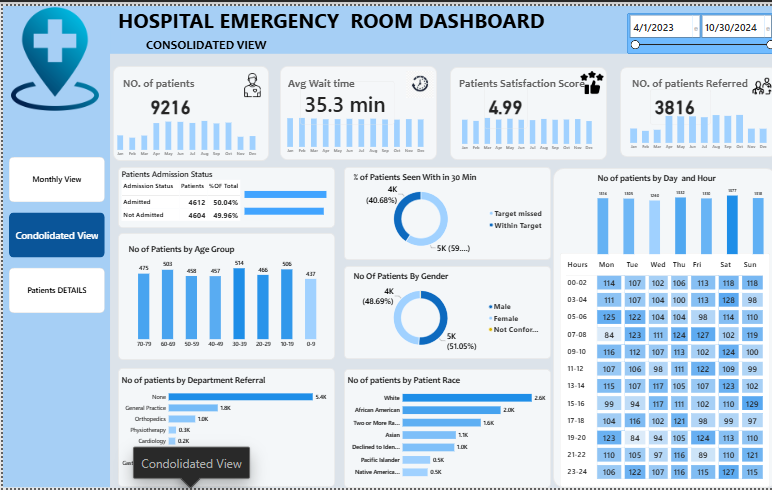

This screenshot's page, from the dashboard's own definition file:
{"tool":"powerbi","page":{"name":"Condolidated View","canvas":[2300,1400],"ordinal":1},"visuals":[{"type":"shape","box":[0,0,310.9,1397.5],"z":0},{"type":"shape","box":[310.9,0,1989.1,138.8],"z":1000},{"type":"textbox","box":[334,0,1243.2,104.6],"z":2000},{"type":"textbox","box":[415.4,69.7,366,69.7],"z":3000},{"type":"slicer","fields":{"Values":["Date Table.Date"]},"box":[1812.4,20.3,435.7,119.1],"z":4000},{"type":"shape","box":[804.6,174.3,456,273],"z":7000},{"type":"textbox","box":[827.8,206.2,275.9,46.5],"z":8000},{"type":"columnChart","fields":{"Category":["Date Table.Month Name"],"Y":["Avg(Hospital ER_Data.Patient Waittime)"]},"box":[795.9,302.1,456,148.1],"z":9000},{"type":"shape","box":[1298.3,177.2,456,270.1],"z":10000},{"type":"textbox","box":[1324.5,206.2,400.8,46.5],"z":11000},{"type":"columnChart","fields":{"Category":["Date Table.Month Name"],"Y":["MASURES.Satisfaction Score"]},"box":[1304.1,302.1,435.7,139.4],"z":12000},{"type":"shape","box":[1792.1,177.2,456,261.4],"z":13000},{"type":"cardVisual","fields":{"Data":["MASURES.No of Patients referred"]},"box":[1879.3,241.1,177.2,104.6],"z":14000},{"type":"textbox","box":[1827,206.2,357.3,46.5],"z":15000},{"type":"columnChart","fields":{"Category":["Date Table.Month Name"],"Y":["MASURES.No of Patients referred"]},"box":[1792.1,293.4,456,145.2],"z":16000},{"type":"shape","box":[319.5,174.3,453.1,275.9],"z":17000},{"type":"shape","box":[334,467.6,630.3,177.2],"z":18000},{"type":"cardVisual","fields":{"Data":["MASURES.No of patients"]},"box":[415.4,229.5,159.8,127.8],"z":19000},{"type":"textbox","box":[348.4,205.7,276.4,46.1],"z":20000},{"type":"columnChart","fields":{"Category":["Date Table.Month Name"],"Y":["MASURES.No of patients"]},"box":[302.1,310.8,461.8,148.1],"z":21000},{"type":"cardVisual","fields":{"Data":["MASURES.Avg Wait time"]},"box":[862.7,217.8,275.9,127.8],"z":22000},{"type":"cardVisual","fields":{"Data":["MASURES.Satisfaction Score"]},"box":[1397.1,229.5,127.8,127.8],"z":23000},{"type":"pivotTable","title":"Patients Admission Status","fields":{"Rows":["Hospital ER_Data.Admission Status"],"Values":["MASURES.No of patients1","MASURES.No of patients"]},"box":[328.2,458.9,453.1,200.4],"z":24000},{"type":"barChart","fields":{"Category":["Hospital ER_Data.Admission Status"],"Y":["MASURES.No of Patients referred"]},"box":[685.5,490.9,270.1,159.8],"z":25000},{"type":"shape","box":[334,659.3,630.3,368.9],"z":26000},{"type":"clusteredColumnChart","title":"No of Patients by Age Group","fields":{"Category":["Hospital ER_Data.Age Group"],"Y":["MASURES.No of Patients referred"]},"box":[348.5,676.8,607.1,336.9],"z":27000},{"type":"shape","box":[334,1051.5,630.3,345.6],"z":28000},{"type":"clusteredBarChart","fields":{"Category":["Hospital ER_Data.Department Referral"],"Y":["MASURES.No of patients"]},"box":[328.2,1057.3,627.4,342.7],"z":29000},{"type":"shape","box":[990.5,467.6,601.2,270.1],"z":30000},{"type":"donutChart","title":"% of Patients Seen With in 30 Min","fields":{"Category":["Hospital ER_Data.Wait time Status"],"Y":["MASURES.No of patients"]},"box":[1002.1,467.6,589.6,270.1],"z":31000},{"type":"shape","box":[991.7,756.5,601.2,270.1],"z":32000},{"type":"donutChart","title":"No Of Patients By Gender ","fields":{"Category":["Hospital ER_Data.Patient Gender"],"Y":["MASURES.No of patients"]},"box":[1003.4,756.5,589.6,270.1],"z":33000},{"type":"shape","box":[990.5,1054.4,601.2,345.6],"z":34000},{"type":"clusteredBarChart","fields":{"Category":["Hospital ER_Data.Patient Race"],"Y":["MASURES.No of patients"]},"box":[984.6,1057.3,607.1,339.8],"z":35000},{"type":"shape","box":[1597.5,470.5,650.6,929.5],"z":36000},{"type":"pivotTable","fields":{"Columns":["Date Table.Day Name"],"Rows":["Hospital ER_Data.Waittime Interval"],"Values":["MASURES.No of patients"]},"box":[1617.8,717.4,610,679.7],"z":37000},{"type":"columnChart","title":"No of patients by Day  and Hour","fields":{"Category":["Date Table.Day Name"],"Y":["MASURES.No of patients"]},"box":[1710.8,470.5,517,267.2],"z":38000},{"type":"image","box":[685.5,194.6,78.4,69.7],"z":39000},{"type":"image","box":[1170.5,188.8,81.3,78.4],"z":40000},{"type":"image","box":[1664.3,188.8,92.9,66.8],"z":41000},{"type":"image","box":[2161,197.5,87.1,69.7],"z":42000},{"type":"image","box":[0,2.9,302.1,302.1],"z":43000},{"type":"pageNavigator","box":[17.4,438.6,278.8,453.1],"z":43001}]}

Visuals, with their boxes on the page's 2300x1400 design canvas (x1, y1, x2, y2). These are canvas units, not pixel positions in the 772x490 screenshot, which may show the page scaled, cropped or inside an application window:
shape: <bbox>0, 0, 311, 1398</bbox>
shape: <bbox>311, 0, 2300, 139</bbox>
textbox: <bbox>334, 0, 1577, 105</bbox>
textbox: <bbox>415, 70, 781, 139</bbox>
slicer - Date Table.Date: <bbox>1812, 20, 2248, 139</bbox>
shape: <bbox>805, 174, 1261, 447</bbox>
textbox: <bbox>828, 206, 1104, 253</bbox>
columnChart - Date Table.Month Name x Avg(Hospital ER_Data.Patient Waittime): <bbox>796, 302, 1252, 450</bbox>
shape: <bbox>1298, 177, 1754, 447</bbox>
textbox: <bbox>1324, 206, 1725, 253</bbox>
columnChart - Date Table.Month Name x MASURES.Satisfaction Score: <bbox>1304, 302, 1740, 442</bbox>
shape: <bbox>1792, 177, 2248, 439</bbox>
cardVisual - MASURES.No of Patients referred: <bbox>1879, 241, 2056, 346</bbox>
textbox: <bbox>1827, 206, 2184, 253</bbox>
columnChart - Date Table.Month Name x MASURES.No of Patients referred: <bbox>1792, 293, 2248, 439</bbox>
shape: <bbox>320, 174, 773, 450</bbox>
shape: <bbox>334, 468, 964, 645</bbox>
cardVisual - MASURES.No of patients: <bbox>415, 230, 575, 357</bbox>
textbox: <bbox>348, 206, 625, 252</bbox>
columnChart - Date Table.Month Name x MASURES.No of patients: <bbox>302, 311, 764, 459</bbox>
cardVisual - MASURES.Avg Wait time: <bbox>863, 218, 1139, 346</bbox>
cardVisual - MASURES.Satisfaction Score: <bbox>1397, 230, 1525, 357</bbox>
"Patients Admission Status" pivotTable: <bbox>328, 459, 781, 659</bbox>
barChart - Hospital ER_Data.Admission Status x MASURES.No of Patients referred: <bbox>686, 491, 956, 651</bbox>
shape: <bbox>334, 659, 964, 1028</bbox>
"No of Patients by Age Group" clusteredColumnChart: <bbox>348, 677, 956, 1014</bbox>
shape: <bbox>334, 1052, 964, 1397</bbox>
clusteredBarChart - Hospital ER_Data.Department Referral x MASURES.No of patients: <bbox>328, 1057, 956, 1400</bbox>
shape: <bbox>990, 468, 1592, 738</bbox>
"% of Patients Seen With in 30 Min" donutChart: <bbox>1002, 468, 1592, 738</bbox>
shape: <bbox>992, 756, 1593, 1027</bbox>
"No Of Patients By Gender " donutChart: <bbox>1003, 756, 1593, 1027</bbox>
shape: <bbox>990, 1054, 1592, 1400</bbox>
clusteredBarChart - Hospital ER_Data.Patient Race x MASURES.No of patients: <bbox>985, 1057, 1592, 1397</bbox>
shape: <bbox>1598, 470, 2248, 1400</bbox>
pivotTable - Date Table.Day Name x Hospital ER_Data.Waittime Interval: <bbox>1618, 717, 2228, 1397</bbox>
"No of patients by Day  and Hour" columnChart: <bbox>1711, 470, 2228, 738</bbox>
image: <bbox>686, 195, 764, 264</bbox>
image: <bbox>1170, 189, 1252, 267</bbox>
image: <bbox>1664, 189, 1757, 256</bbox>
image: <bbox>2161, 198, 2248, 267</bbox>
image: <bbox>0, 3, 302, 305</bbox>
pageNavigator: <bbox>17, 439, 296, 892</bbox>
